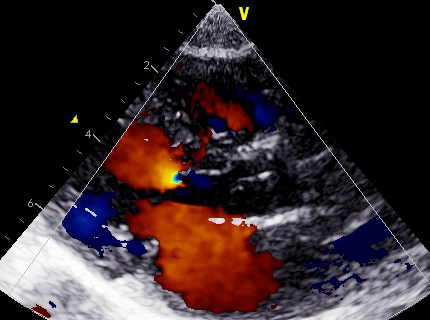AR: (140, 152, 229, 222)
